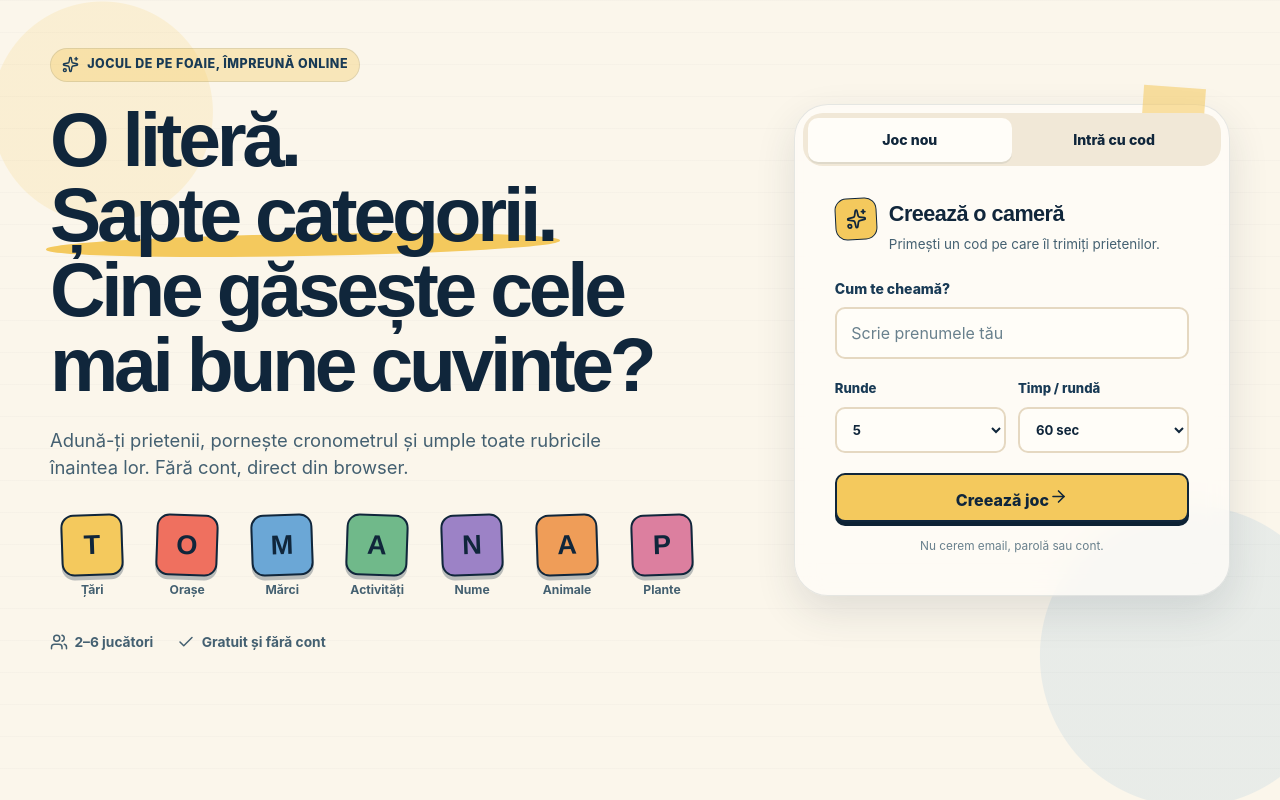
Test: HomePage › introduces the game and offers focused create and join modes
The image size is (1280, 800).
Expected: the heading "Șapte categorii" is shown, top-left (50, 102), bottom-right (704, 402)
Expected: the button "Creează joc" is shown, top-left (835, 473), bottom-right (1189, 522)
Click the tab "Intră cu cod".
click(1114, 140)  # box top-left (1012, 118), bottom-right (1216, 162)
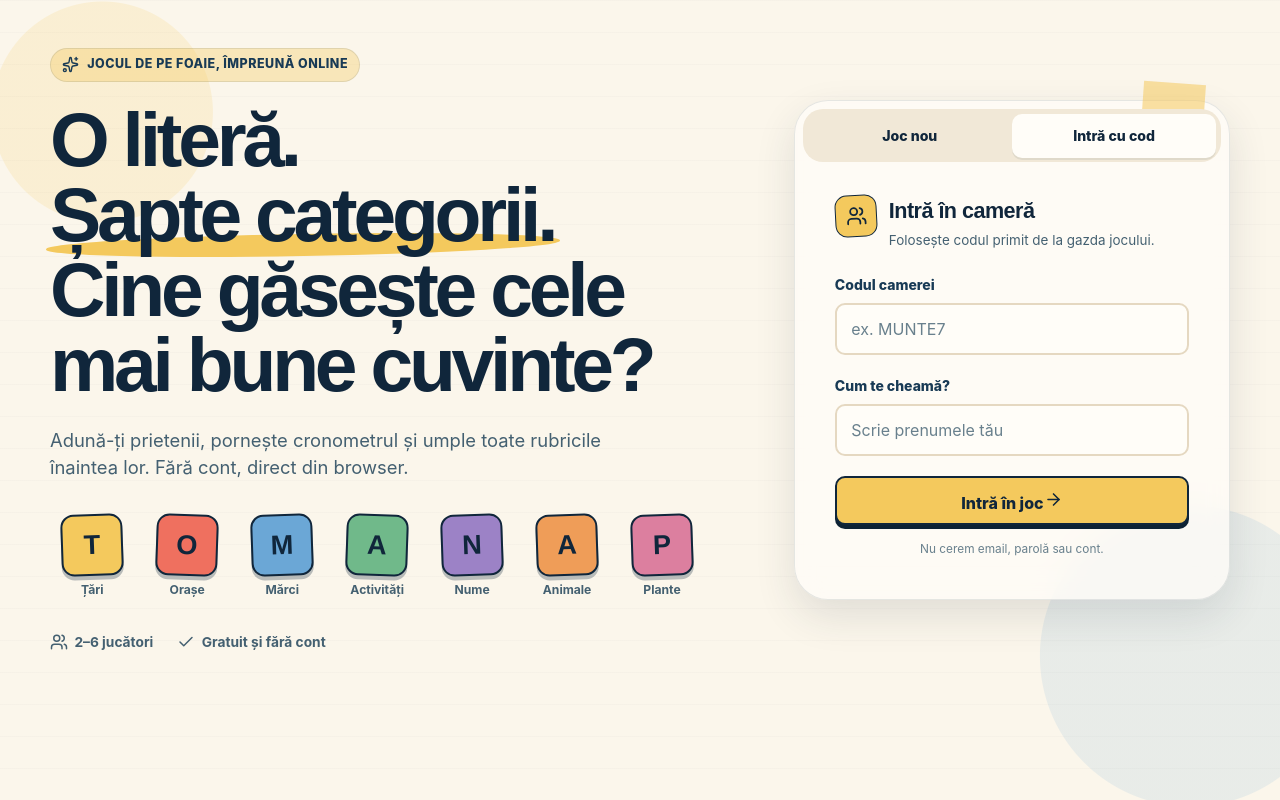
Expected: the field labelled "Codul camerei" is shown, top-left (835, 303), bottom-right (1189, 355)
Expected: the button "Intră în joc" is shown, top-left (835, 476), bottom-right (1189, 525)
